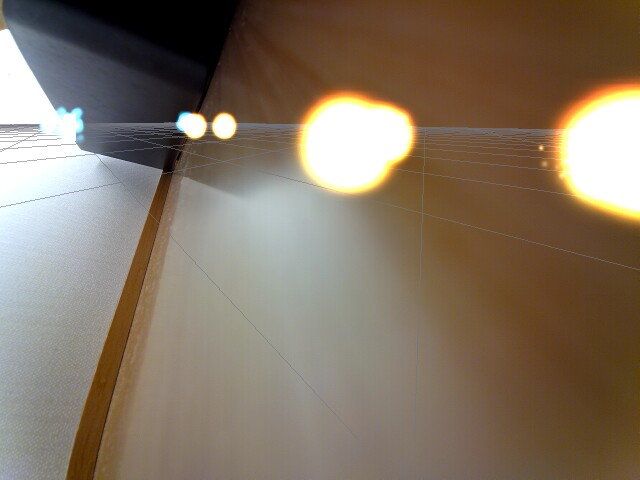firebig: (545, 48, 640, 253)
